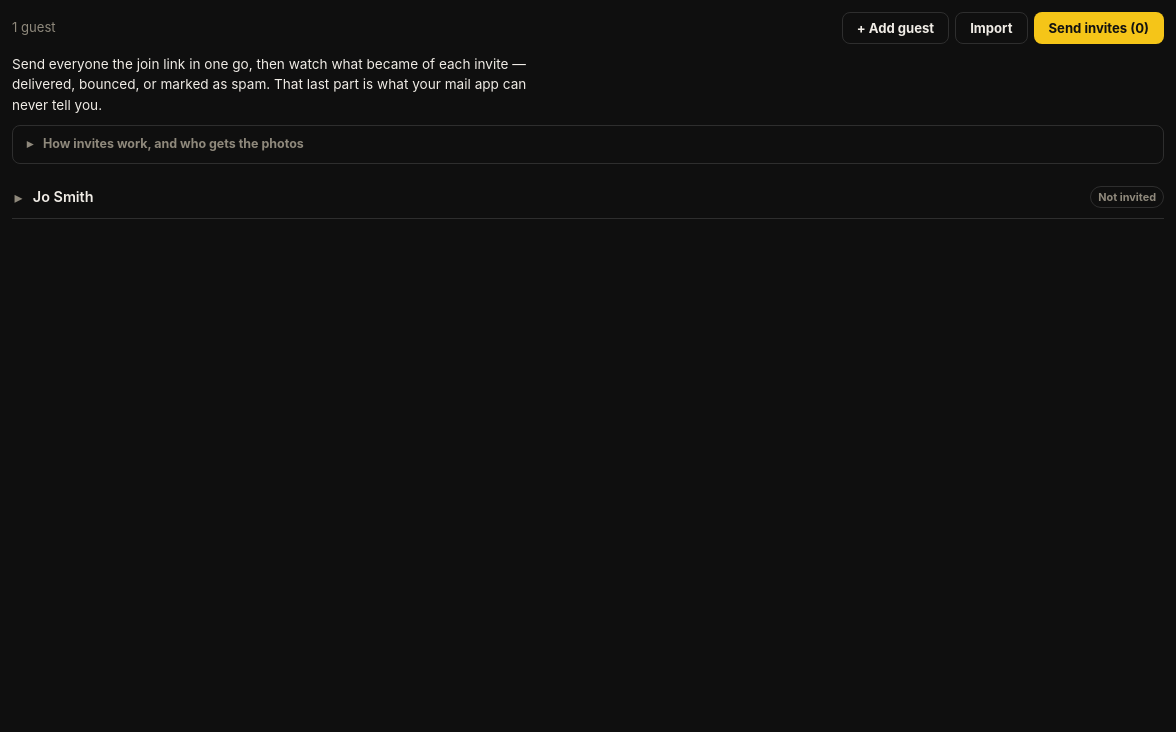
the import preview › renders the mapper ALONGSIDE a fatal, not instead of it
Click the button "Import" at (991, 28), box [955, 12, 1028, 44]
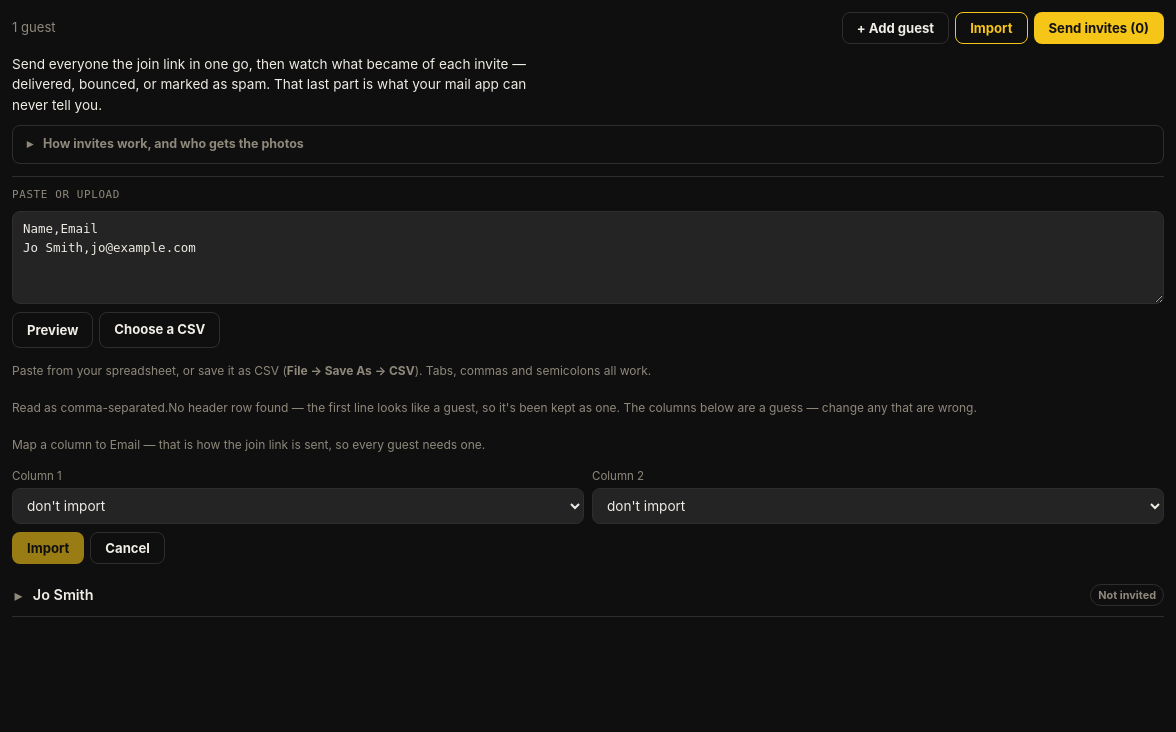
Result: the text with class "bad" shows "Map a column to Email" at [12, 438, 485, 452]
Result: the text "Column 1" is shown at [12, 469, 62, 483]
Result: the text "Column 2" is shown at [592, 469, 644, 483]
